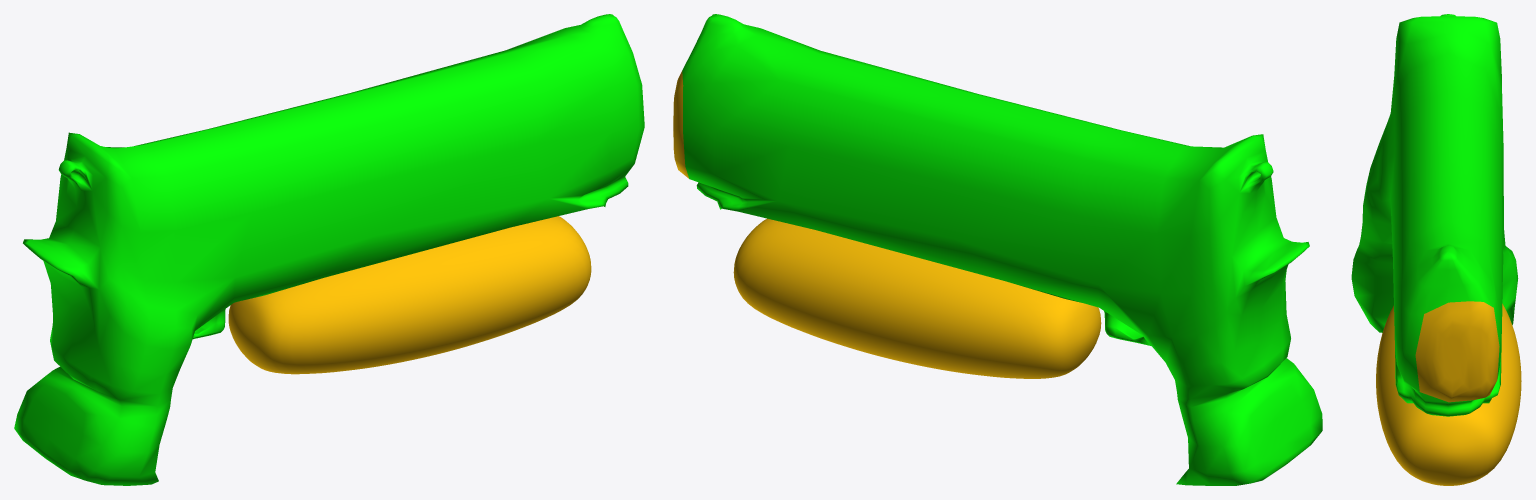
File: water pistol.fbx
3 views of the same model, side by side, from view 1: azimuth 30°, elevation 25°; view 2: azimuth 150°, elevation 25°; view 3: azimuth 270°, elevation 25° (orthographic). The views are drawn at different scales.
Visible parts, largest first — view 1: Cube; view 2: Cube; view 3: Cube.
Boxes of the visible parts, left/top/right/bottom form: Cube: left=14, top=14, right=644, bottom=485; Cube: left=673, top=14, right=1322, bottom=485; Cube: left=1351, top=14, right=1521, bottom=485.
Bounding box in the file's own units: 891 × 464 × 231.
